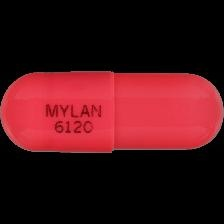0378-6120: (0, 0, 224, 224)
